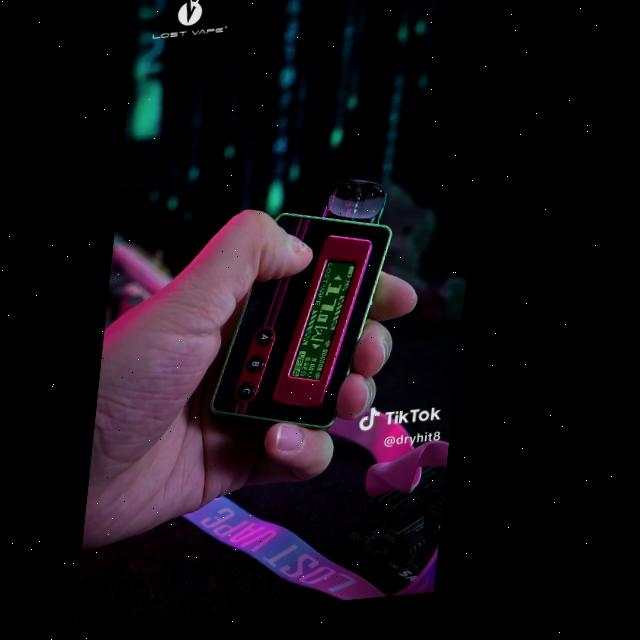vape: (216, 179, 407, 446)
